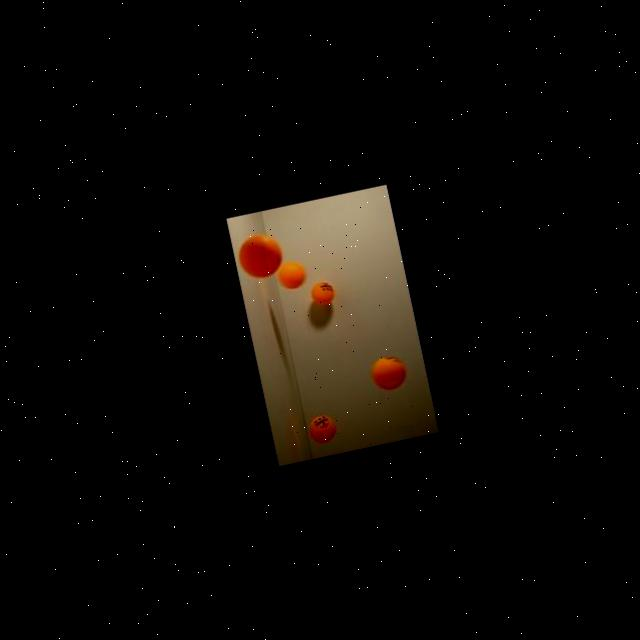ping-pong-ball: (232, 230, 286, 284), (367, 352, 409, 392), (273, 258, 308, 292), (304, 411, 336, 446), (305, 278, 337, 306)
